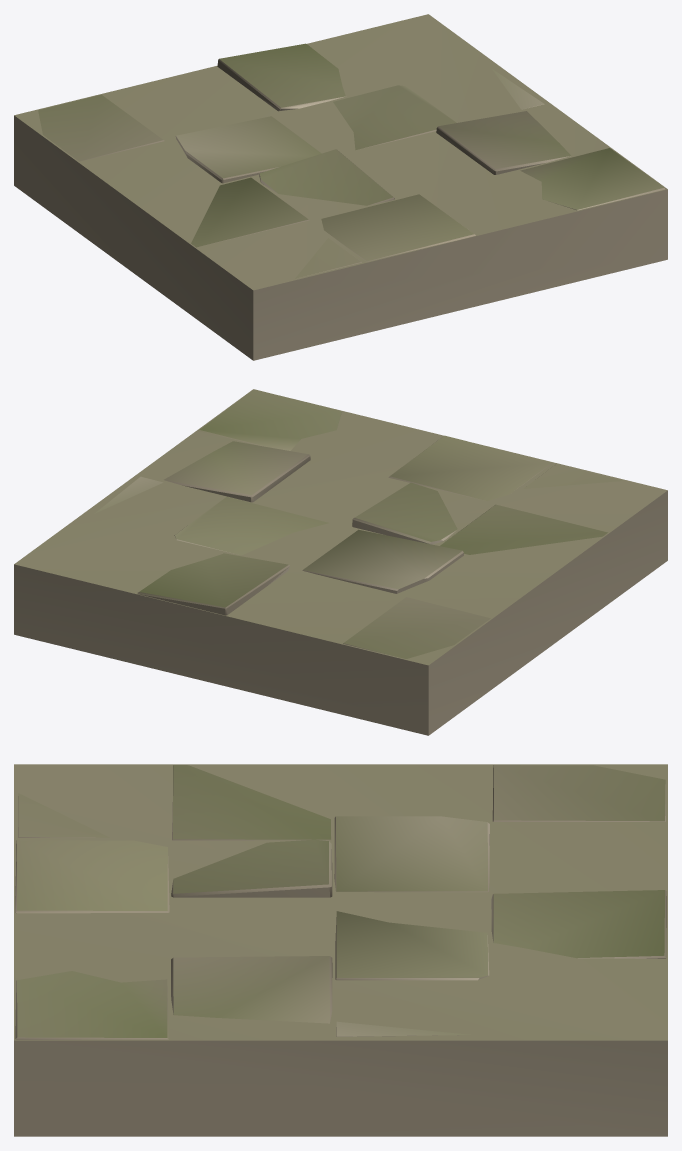
The model's file is sanctuary_deck.glb.
3 views of the same model, one above another, from view 1: azimuth 30°, elevation 25°; view 2: azimuth 150°, elevation 25°; view 3: azimuth 270°, elevation 25° (orthographic). The views are drawn at different scales.
Parts seen in each view (by area): view 1: sanctuary_deck_far, sanctuary_deck; view 2: sanctuary_deck_far, sanctuary_deck; view 3: sanctuary_deck_far, sanctuary_deck.
Part boxes in pixels (bbox=[...]): sanctuary_deck_far: bbox=[14, 14, 667, 360]; sanctuary_deck: bbox=[38, 43, 665, 278]; sanctuary_deck_far: bbox=[14, 389, 667, 735]; sanctuary_deck: bbox=[94, 389, 622, 658]; sanctuary_deck_far: bbox=[14, 764, 667, 1136]; sanctuary_deck: bbox=[15, 765, 666, 1039].
Bounding box in the file's own units: 18.5 × 3.38 × 18.5.
